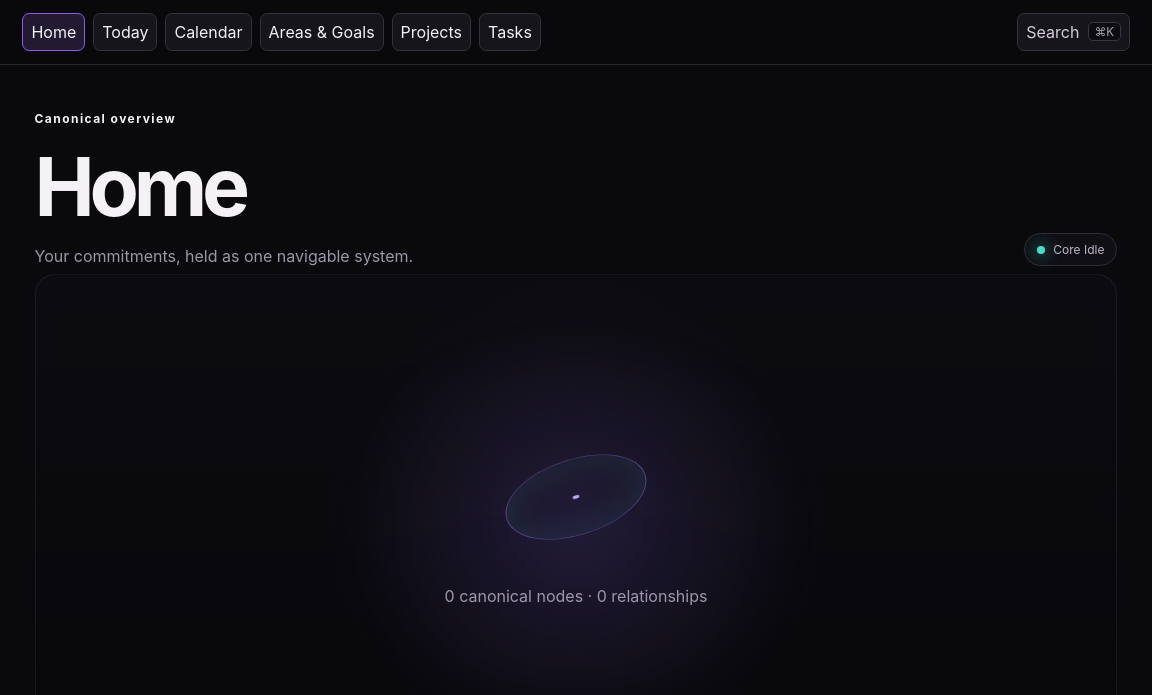
Test case: keeps an active Goal visible with archived-parent context
Click the button "Areas & Goals".
click(322, 32)  # box [260,13,384,51]
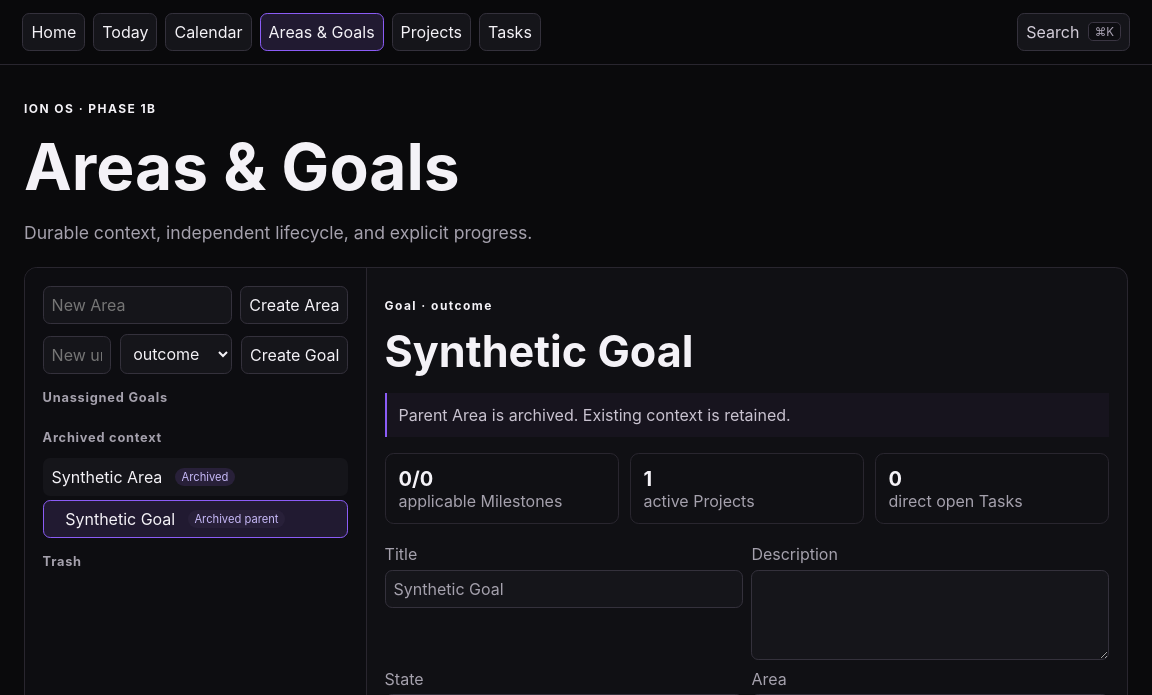
Now the text "Archived parent" is shown, box [188,510,285,528]
Now the text "Parent Area is archived. Existing context is retained." is shown, box [385,393,1109,437]
